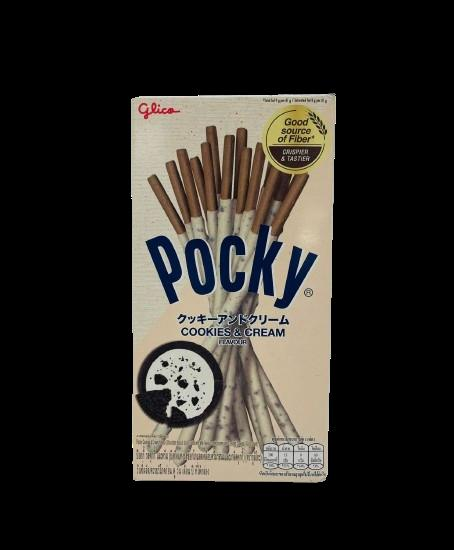Kertas: (134, 100, 330, 482)
